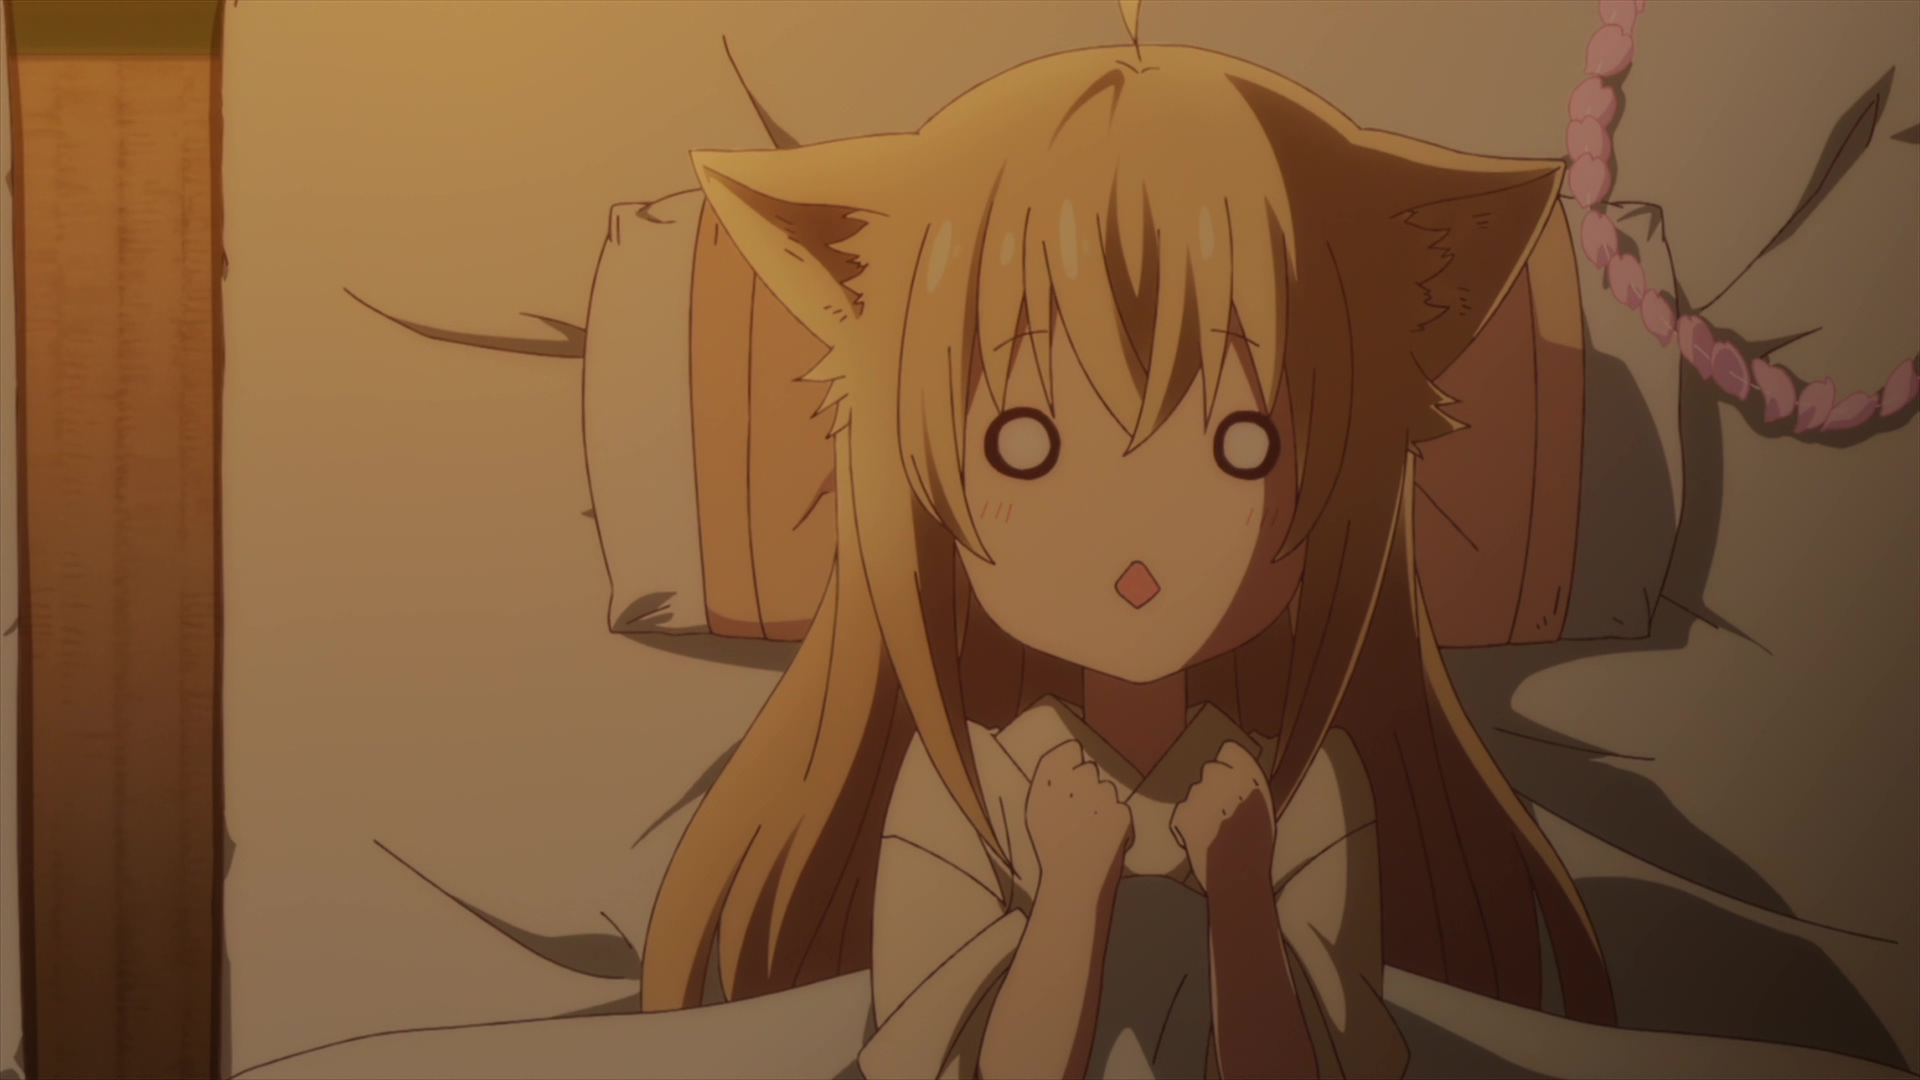柚: (637, 1, 1622, 1080)
